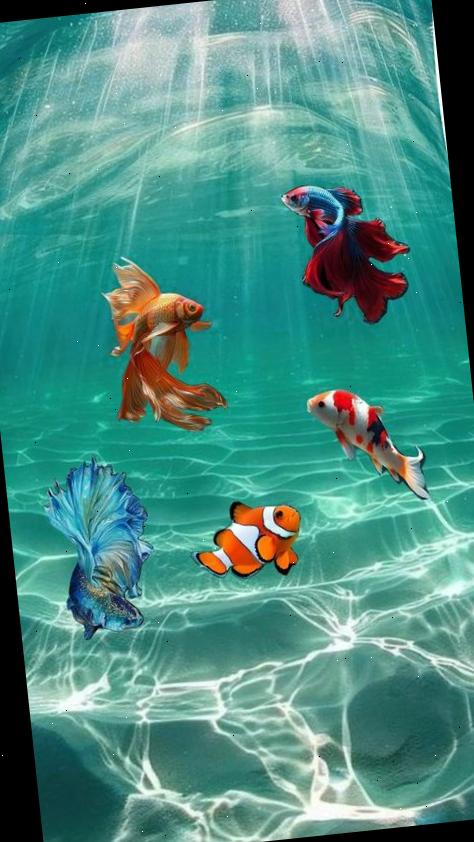fish: (95, 250, 229, 443), (39, 449, 164, 643), (280, 174, 418, 332), (306, 379, 432, 512), (189, 493, 308, 585)
